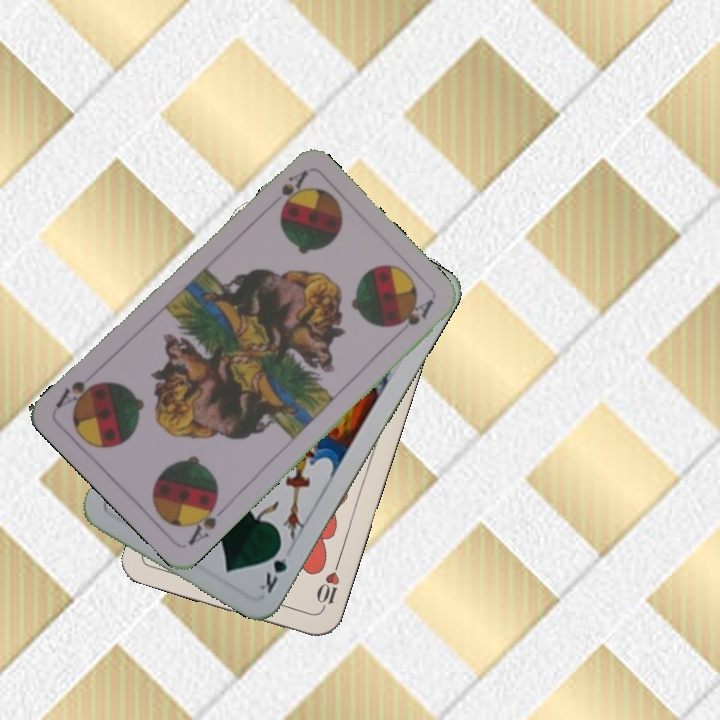GK: (254, 540, 291, 596)
H10: (312, 557, 343, 614)
SA: (183, 494, 230, 549), (277, 167, 310, 207)
